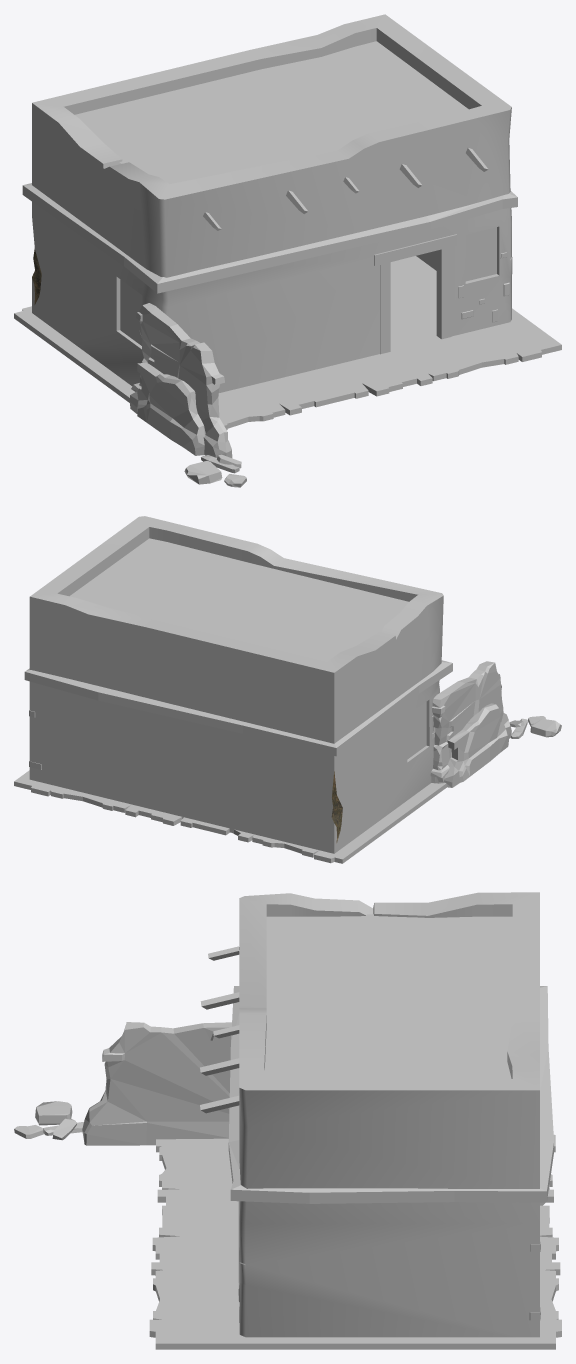
File: ManChengJianZhu02.FBX
The picture shows the model from 3 angles, top to bottom: view 1: azimuth 30°, elevation 25°; view 2: azimuth 150°, elevation 25°; view 3: azimuth 270°, elevation 25°; orthographic projection. The views are drawn at different scales.
Parts seen in each view (by area): view 1: ManChengJianZhu02_wuding, ManChengJianZhu02_wall, ManChengJianZhu02_wuding01, ManChengJianZhu02_dimian, ManChengJianZhu02_wall01, ManChengJianZhu02_wujian, ManChengJianZhu02_men, ManChengJianZhu02_wujian01; view 2: ManChengJianZhu02_wuding, ManChengJianZhu02_wall, ManChengJianZhu02_wuding01, ManChengJianZhu02_wall01, ManChengJianZhu02_dimian, ManChengJianZhu02_wujian; view 3: ManChengJianZhu02_wuding, ManChengJianZhu02_wall, ManChengJianZhu02_wuding01, ManChengJianZhu02_dimian, ManChengJianZhu02_wall01, ManChengJianZhu02_wujian, ManChengJianZhu02_wujian01.
Boxes of the visible parts, x1=… form: ManChengJianZhu02_wuding: x1=32, y1=14, x2=511, y2=277; ManChengJianZhu02_wall: x1=32, y1=202, x2=512, y2=392; ManChengJianZhu02_wuding01: x1=75, y1=41, x2=468, y2=184; ManChengJianZhu02_dimian: x1=14, y1=227, x2=561, y2=429; ManChengJianZhu02_wall01: x1=130, y1=303, x2=246, y2=487; ManChengJianZhu02_wujian: x1=22, y1=183, x2=517, y2=293; ManChengJianZhu02_men: x1=374, y1=234, x2=457, y2=354; ManChengJianZhu02_wujian01: x1=203, y1=148, x2=488, y2=230; ManChengJianZhu02_wuding: x1=29, y1=516, x2=443, y2=743; ManChengJianZhu02_wall: x1=29, y1=680, x2=439, y2=853; ManChengJianZhu02_wuding01: x1=70, y1=538, x2=408, y2=661; ManChengJianZhu02_wall01: x1=430, y1=661, x2=561, y2=787; ManChengJianZhu02_dimian: x1=14, y1=702, x2=446, y2=863; ManChengJianZhu02_wujian: x1=24, y1=660, x2=452, y2=756; ManChengJianZhu02_wuding: x1=239, y1=892, x2=539, y2=1188; ManChengJianZhu02_wall: x1=238, y1=1201, x2=540, y2=1337; ManChengJianZhu02_wuding01: x1=265, y1=914, x2=512, y2=1078; ManChengJianZhu02_dimian: x1=149, y1=1134, x2=561, y2=1349; ManChengJianZhu02_wall01: x1=14, y1=1022, x2=231, y2=1145; ManChengJianZhu02_wujian: x1=228, y1=986, x2=553, y2=1203; ManChengJianZhu02_wujian01: x1=200, y1=946, x2=239, y2=1113.
Size of the model in its own units: 596 by 298 by 585.
